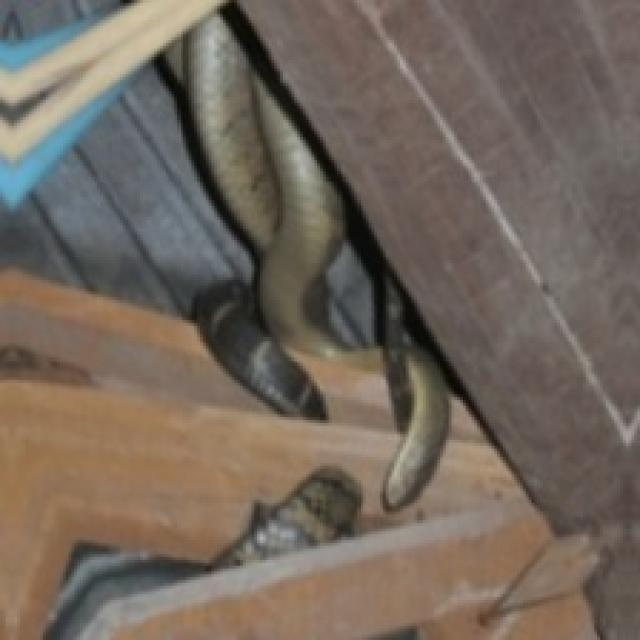king cobra: (157, 14, 446, 509), (160, 14, 354, 354), (380, 277, 446, 506)
